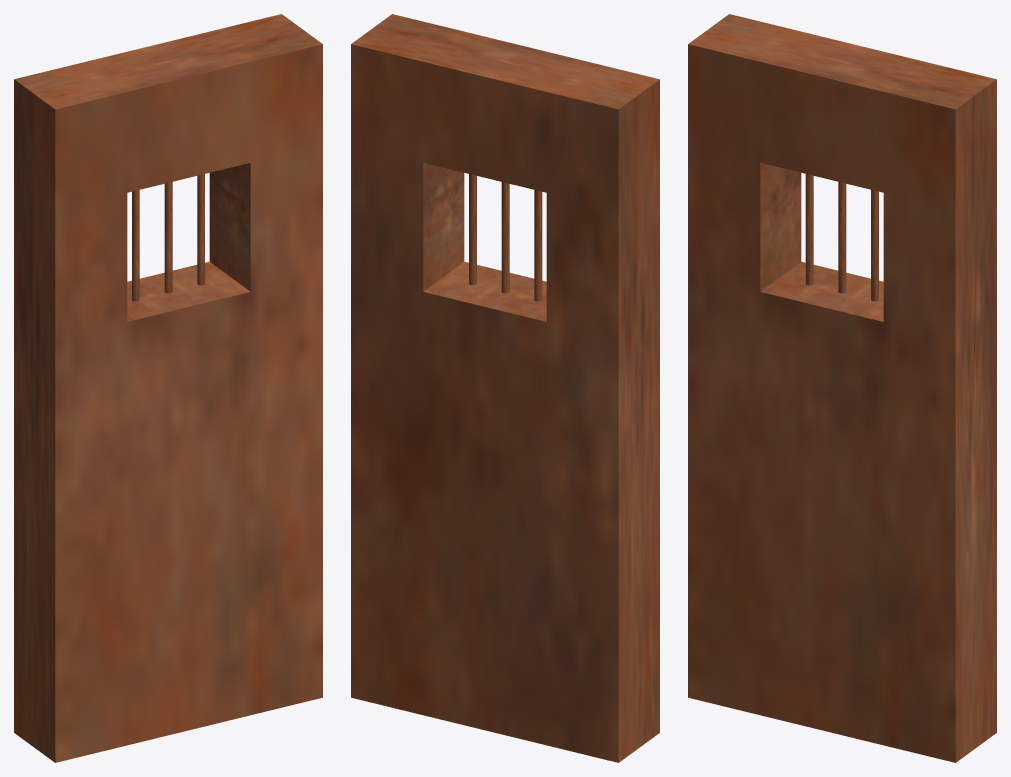
The model's file is PrisonDoor.fbx.
The picture shows the model from 3 angles, left to right: view 1: azimuth 30°, elevation 25°; view 2: azimuth 150°, elevation 25°; view 3: azimuth 330°, elevation 25°; orthographic projection.
Visible parts, largest first — view 1: Cube, Cylinder, Cylinder.001, Cylinder.002; view 2: Cube, Cylinder, Cylinder.002, Cylinder.001; view 3: Cube, Cylinder.002, Cylinder, Cylinder.001.
Boxes of the visible parts, x1,y1,x2,y2 form: Cube: (14,14,322,762); Cylinder: (164,182,172,293); Cylinder.001: (197,174,204,285); Cylinder.002: (132,190,139,301); Cube: (351,14,659,762); Cylinder: (501,182,509,293); Cylinder.002: (534,190,542,301); Cylinder.001: (469,174,476,285); Cube: (688,14,996,762); Cylinder.002: (805,174,813,285); Cylinder: (838,182,846,293); Cylinder.001: (871,190,878,301).
Bounding box in the file's own units: 180 × 420 × 48.
